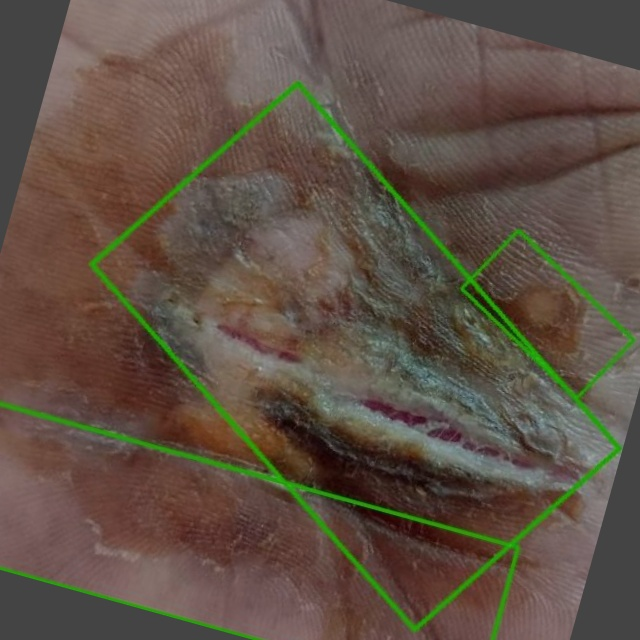Eczema: (91, 83, 618, 629), (0, 403, 518, 639), (461, 230, 632, 398)
